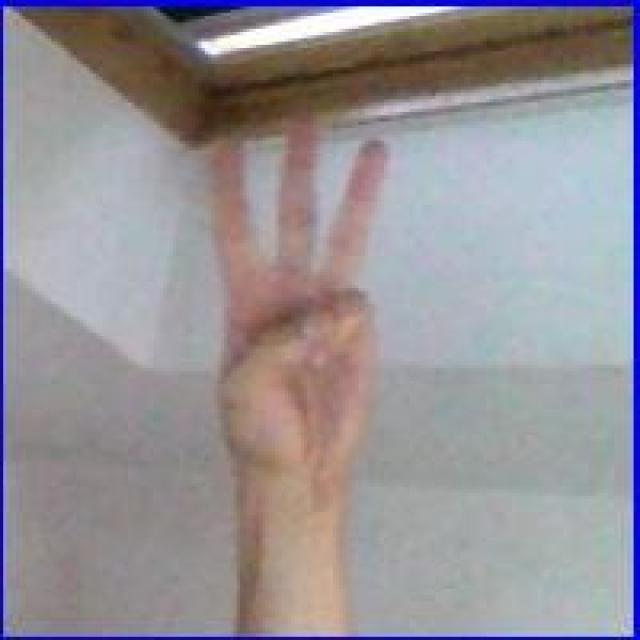W: (193, 102, 404, 509)
